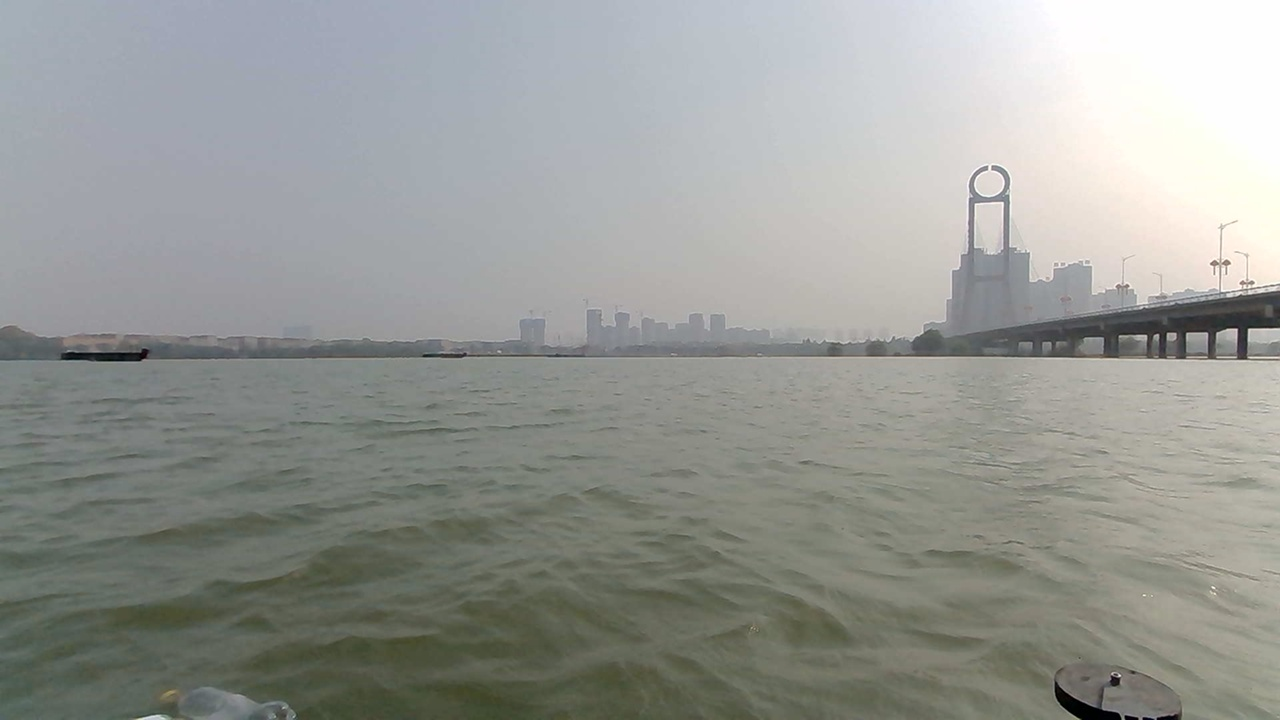bottle: (114, 671, 296, 720)
